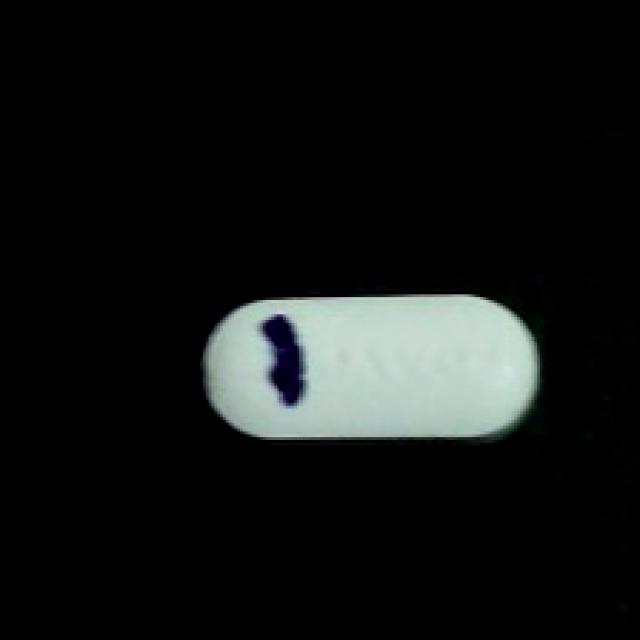defected: (186, 291, 546, 451)
